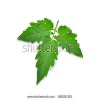Tomato leaf: (34, 33, 62, 88), (56, 16, 88, 62), (16, 13, 56, 48)
